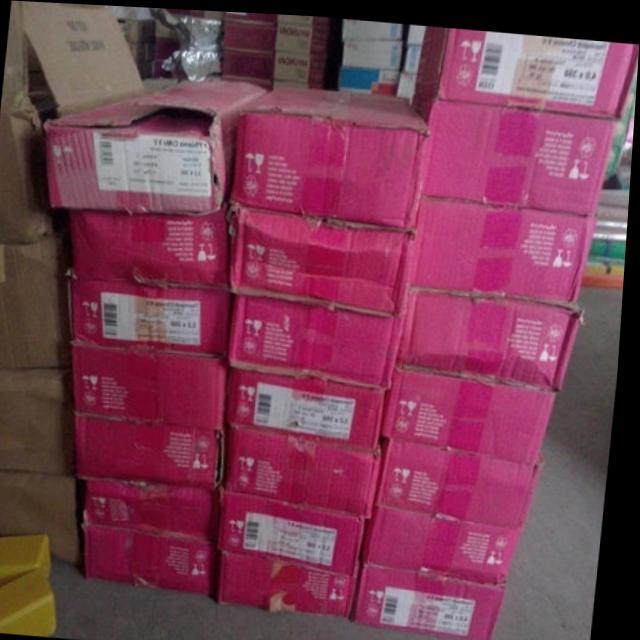box: (44, 77, 268, 214), (230, 83, 433, 226), (412, 90, 618, 209), (413, 21, 639, 113), (234, 203, 419, 314), (413, 192, 600, 297), (400, 282, 585, 386), (385, 360, 559, 458), (232, 291, 406, 386), (381, 431, 551, 522), (229, 423, 388, 515), (74, 340, 235, 429), (231, 363, 394, 450), (72, 200, 232, 285), (366, 500, 532, 579), (224, 485, 372, 572), (358, 555, 513, 637), (72, 277, 232, 355), (80, 411, 231, 484), (0, 233, 74, 367), (89, 520, 222, 592), (225, 546, 363, 611), (0, 367, 80, 476), (0, 468, 86, 567), (90, 478, 225, 536), (0, 568, 64, 636), (0, 534, 59, 590), (338, 61, 400, 93), (342, 35, 402, 65), (223, 16, 275, 48), (274, 20, 329, 49), (274, 48, 327, 78), (222, 47, 275, 75), (341, 15, 403, 36), (277, 11, 330, 26), (397, 67, 417, 100), (223, 9, 277, 21), (404, 40, 421, 69), (406, 20, 424, 40)
